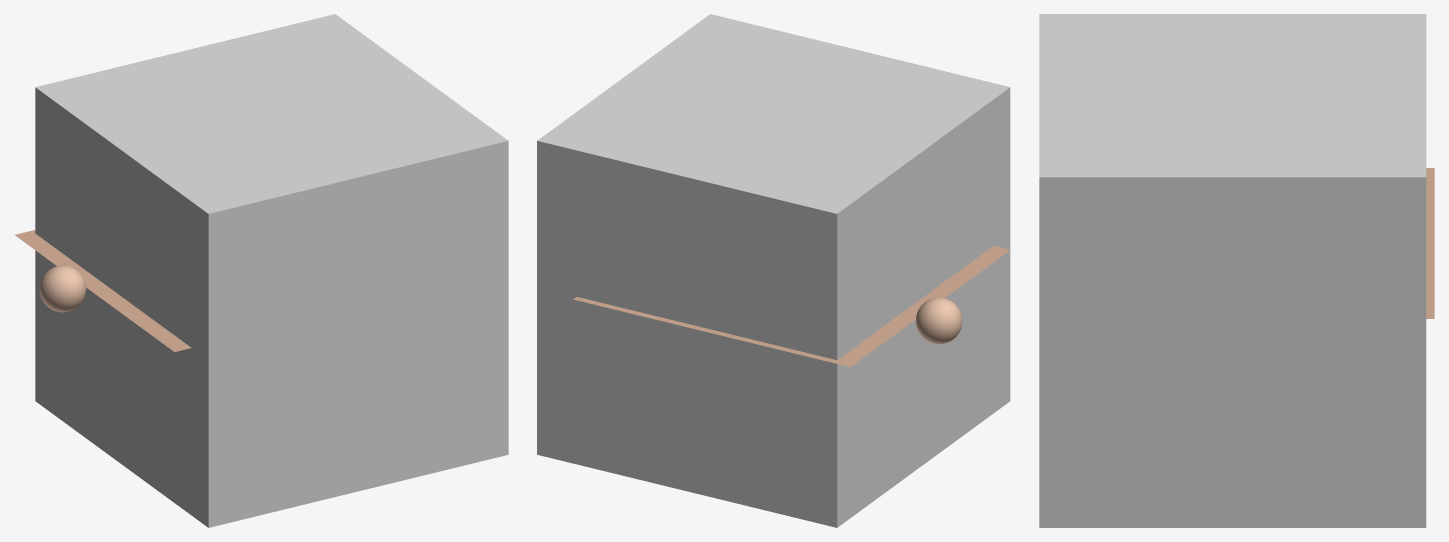
File: level_1.fbx
3 renders of one model, left to right at view 1: azimuth 30°, elevation 25°; view 2: azimuth 150°, elevation 25°; view 3: azimuth 270°, elevation 25°, orthographic. The views are drawn at different scales.
Parts seen in each view (by area): view 1: Cube, Plane, Jupiter; view 2: Cube, Plane, Jupiter; view 3: Cube, Plane.
Boxes of the visible parts, bbox=[...] form: Cube: bbox=[35, 14, 508, 527]; Plane: bbox=[15, 230, 191, 351]; Jupiter: bbox=[39, 265, 86, 312]; Cube: bbox=[537, 14, 1010, 527]; Plane: bbox=[573, 246, 1010, 366]; Jupiter: bbox=[916, 297, 962, 344]; Cube: bbox=[1039, 14, 1426, 527]; Plane: bbox=[1426, 168, 1434, 318].
Bounding box in the file's own units: 48147 × 40421 × 41296.
